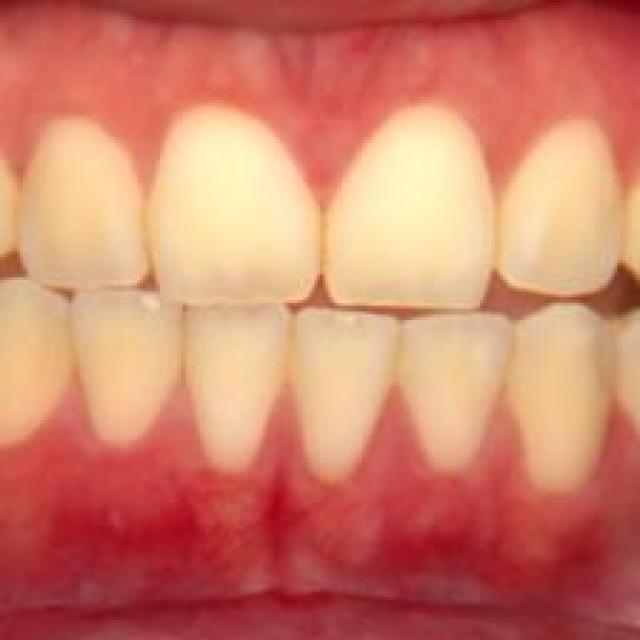cavity: (131, 197, 163, 263), (312, 208, 332, 266)
